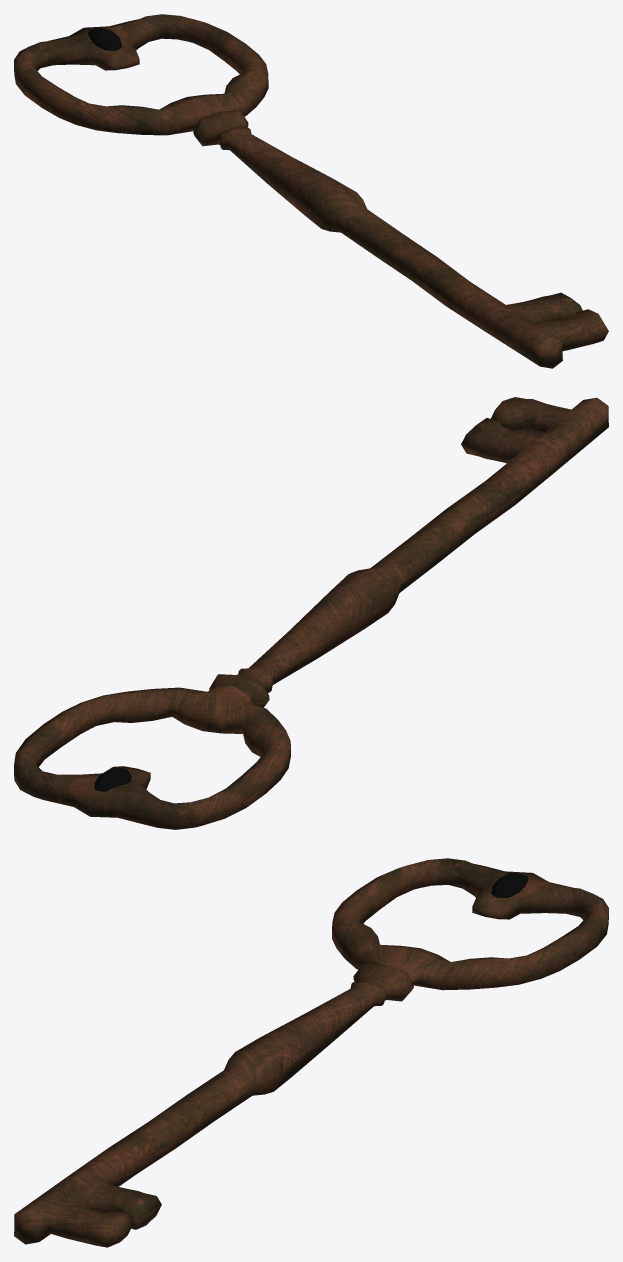
The model's file is Key.glb.
3 renders of one model, top to bottom at view 1: azimuth 30°, elevation 25°; view 2: azimuth 150°, elevation 25°; view 3: azimuth 330°, elevation 25°, orthographic. The views are drawn at different scales.
Parts seen in each view (by area): view 1: Key; view 2: Key; view 3: Key.
Boxes of the visible parts, box(x1,y1,x2,y2) form: Key: box(14, 14, 608, 368); Key: box(14, 397, 608, 829); Key: box(14, 858, 608, 1247).
Bounding box in the file's own units: 15.26 × 3.39 × 60.74.
1 material, 1 textured.
